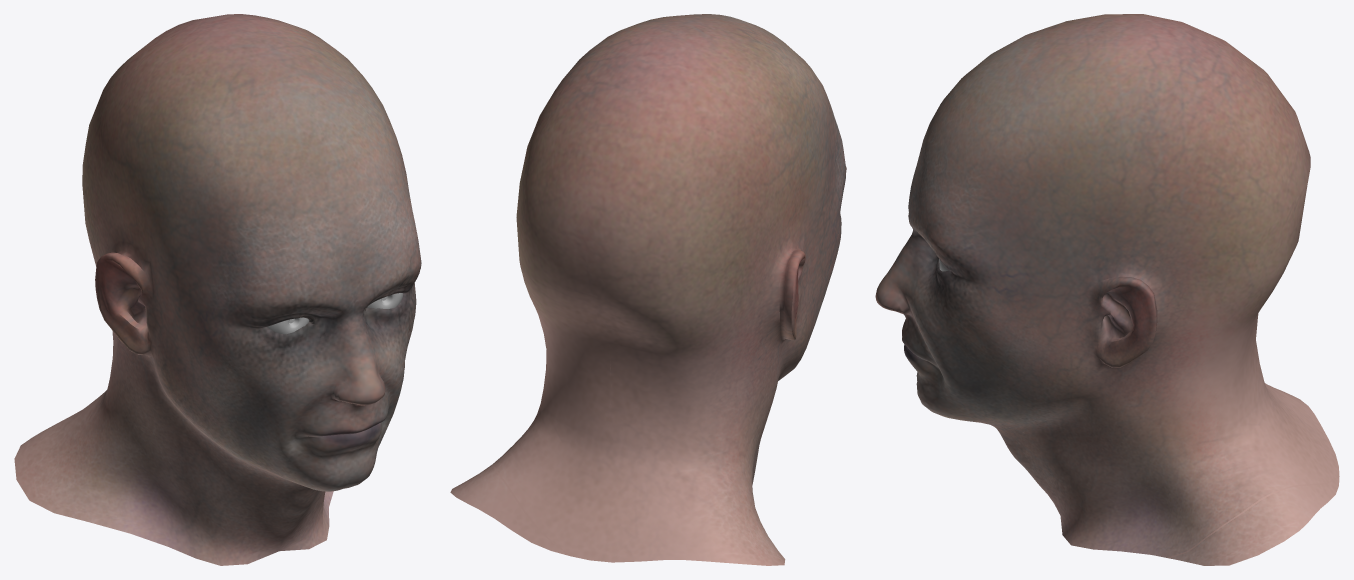
File: head_parented.fbx
3 renders of one model, left to right at view 1: azimuth 30°, elevation 25°; view 2: azimuth 150°, elevation 25°; view 3: azimuth 270°, elevation 25°, orthographic. The views are drawn at different scales.
Visible parts, largest first — view 1: head, eyes; view 2: head; view 3: head.
Boxes of the visible parts, box(x1,y1,x2,y2) form: head: box(14, 14, 421, 565); eyes: box(267, 293, 403, 334); head: box(450, 14, 846, 565); head: box(875, 14, 1339, 565).
Bounding box in the file's own units: 0.8338 × 1.22 × 1.04.
